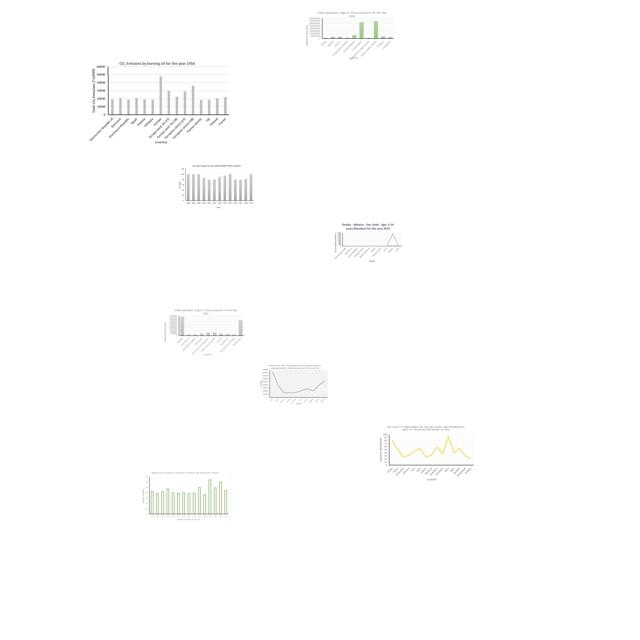Graph: (88, 61, 231, 145), (377, 424, 475, 482), (140, 470, 231, 523), (304, 10, 395, 61), (162, 308, 245, 357), (178, 164, 256, 211), (333, 222, 403, 263), (260, 364, 329, 405)
